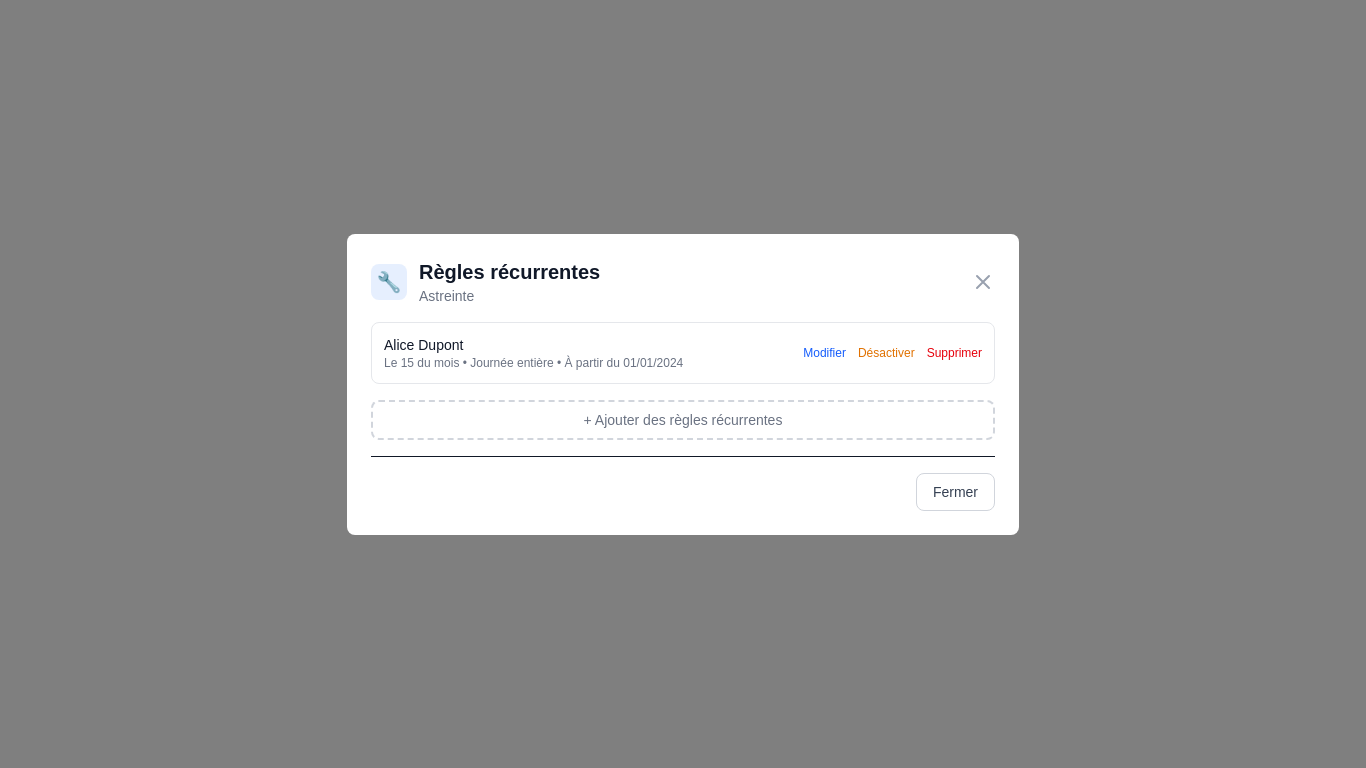
Test: RecurringRulesModal — recurrence type extension › 6. édition d'une règle MONTHLY_DAY existante pré-sélectionne bien le mode et monthlyDayOfMonth
Note: Click the Edit button on the rule row
Click the button "Modifier". click: click(825, 352)
box: [803,344,846,360]
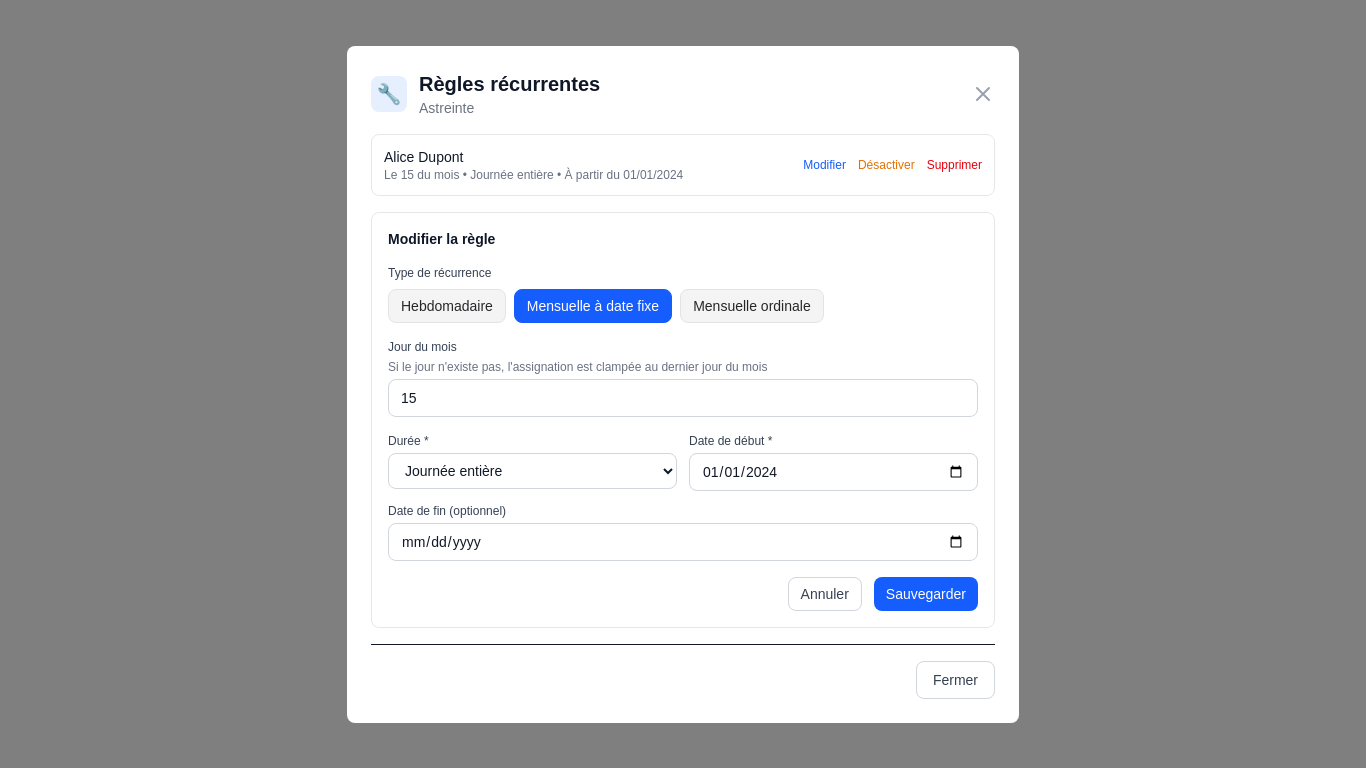
Expected: the text "Type de récurrence" is shown, [388,264,491,280]
Expected: the radio button labelled "Mensuelle à date fixe" is checked, [514,288,672,322]
Expected: the number field labelled "Jour du mois" holds "15", [388,378,978,416]
